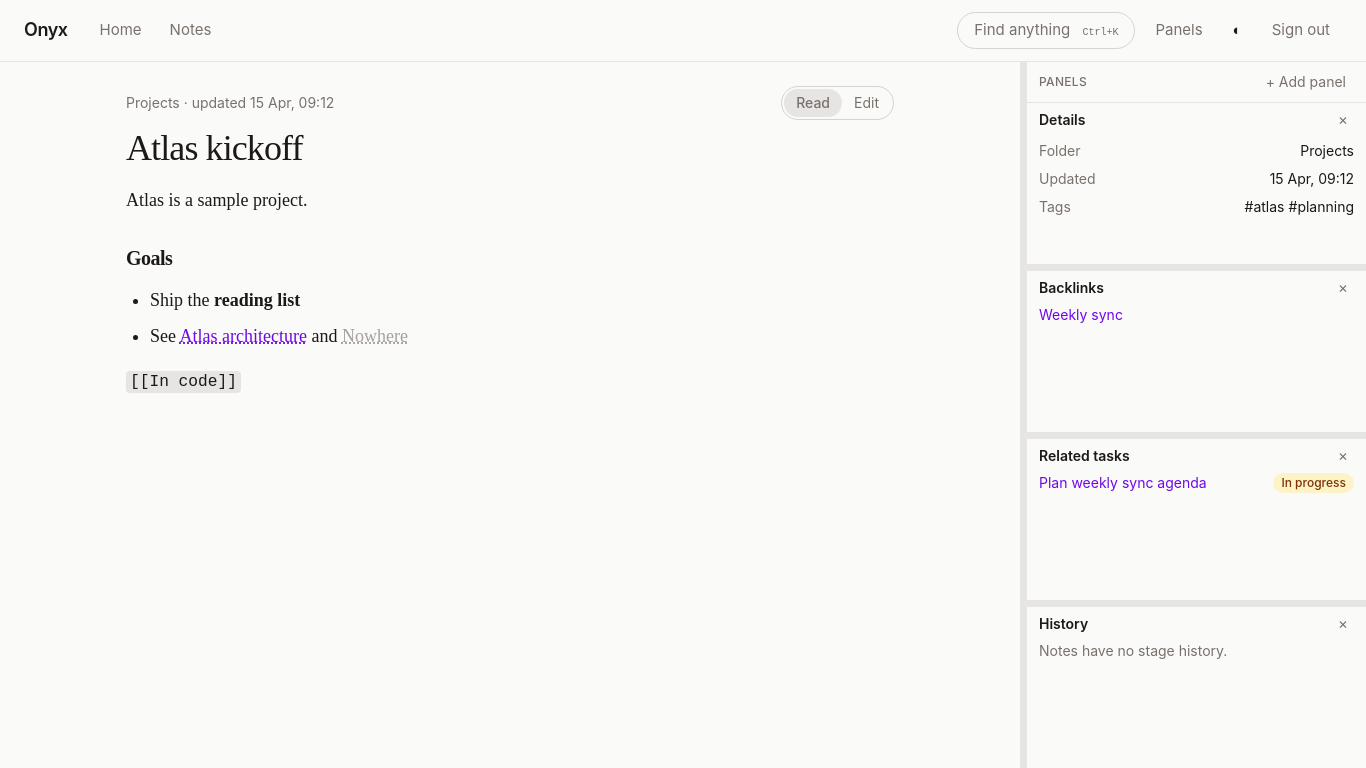
Scenario: editing a note › Edit opens the whole body as written, with the fields shown but not editable
Click the button "Edit". click: (866, 102)
box: 842,88 -> 891,116
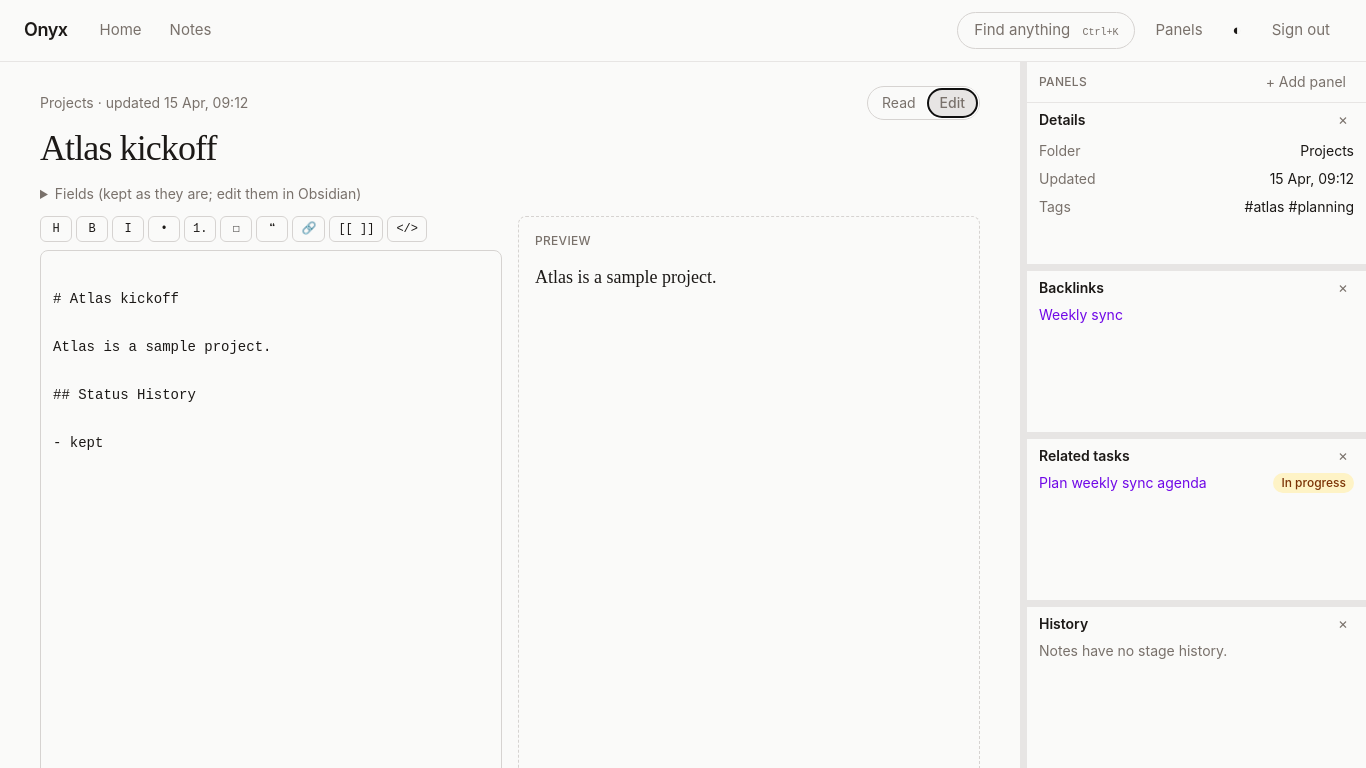
Expected: the heading "Fields (kept as they are; edit them in Obsidian)" is shown, 55,184 -> 361,202
